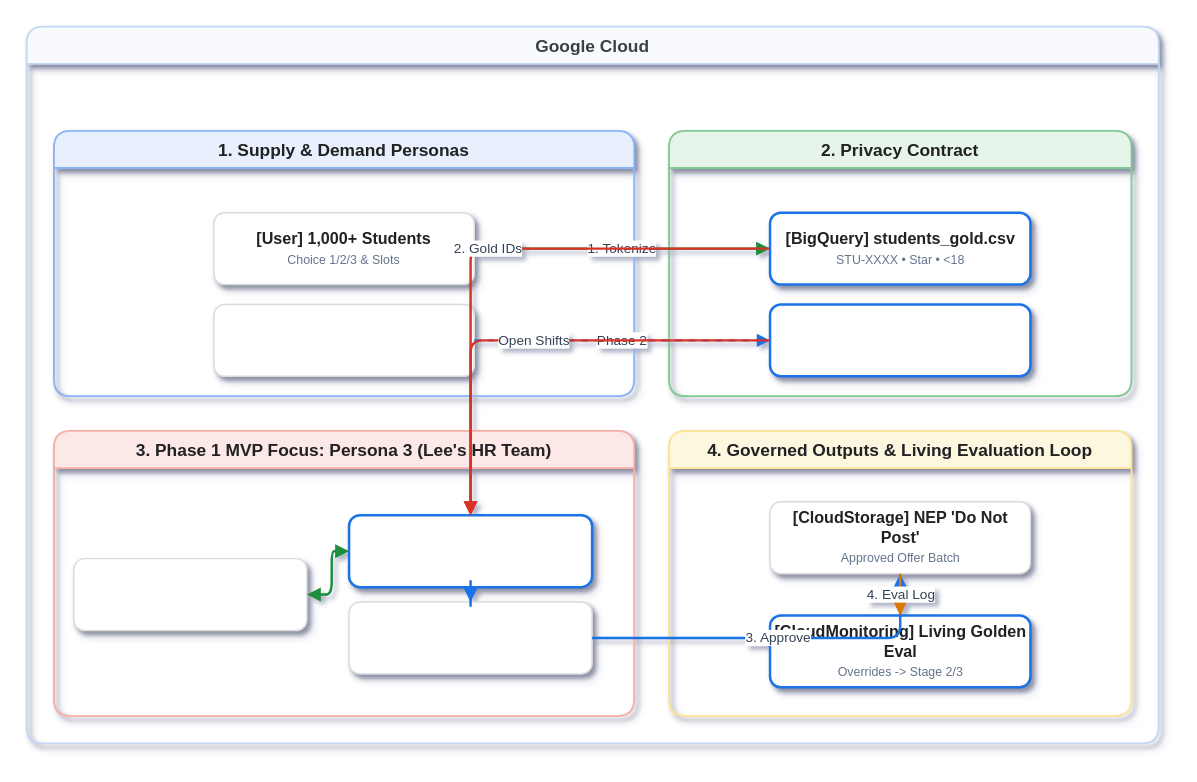
This 1197x782 diagram has some shape labels left out. Here are the shapes that lost their labels. From the top down, the centre of each, then its label:
the point at 345,341: [GoogleWorkspace] 470 Store Managers Phase 2 Shift Agent
the point at 900,342: [BigQuery] store_shifts_gold.csv CMP • No Green Box
the point at 471,552: [VertexAI] HR Transfer Agent 3-Pass >=5.5h Engine
the point at 190,595: [ModelArmor] Model Armor Base Prompt & SDP Guard
the point at 471,639: [Laptop] Control Tower & GE Stage 1: 100% Review
